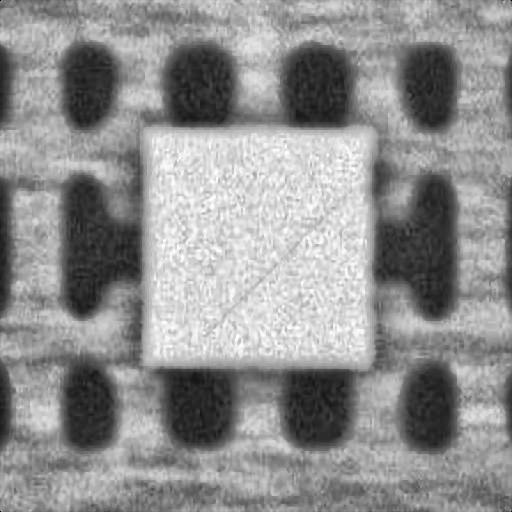DIE_CRACK: (299, 125, 512, 223)
